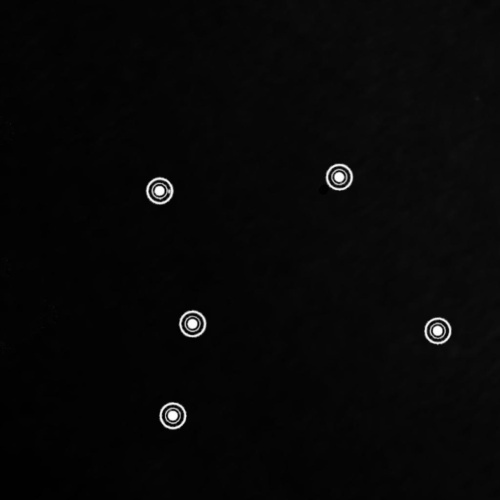libra: (139, 159, 460, 440)
